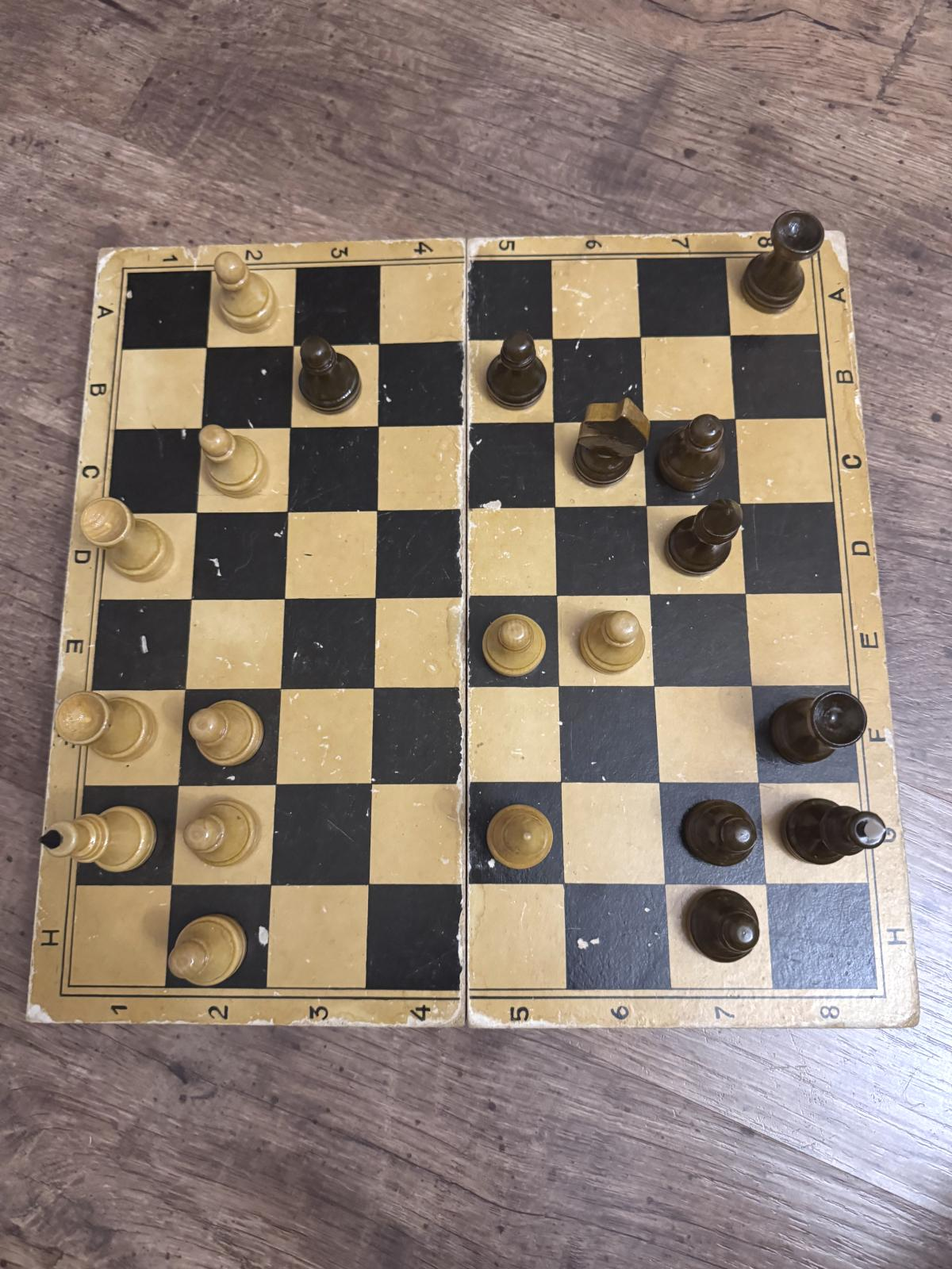Chess-Board: (69, 256, 877, 988)
